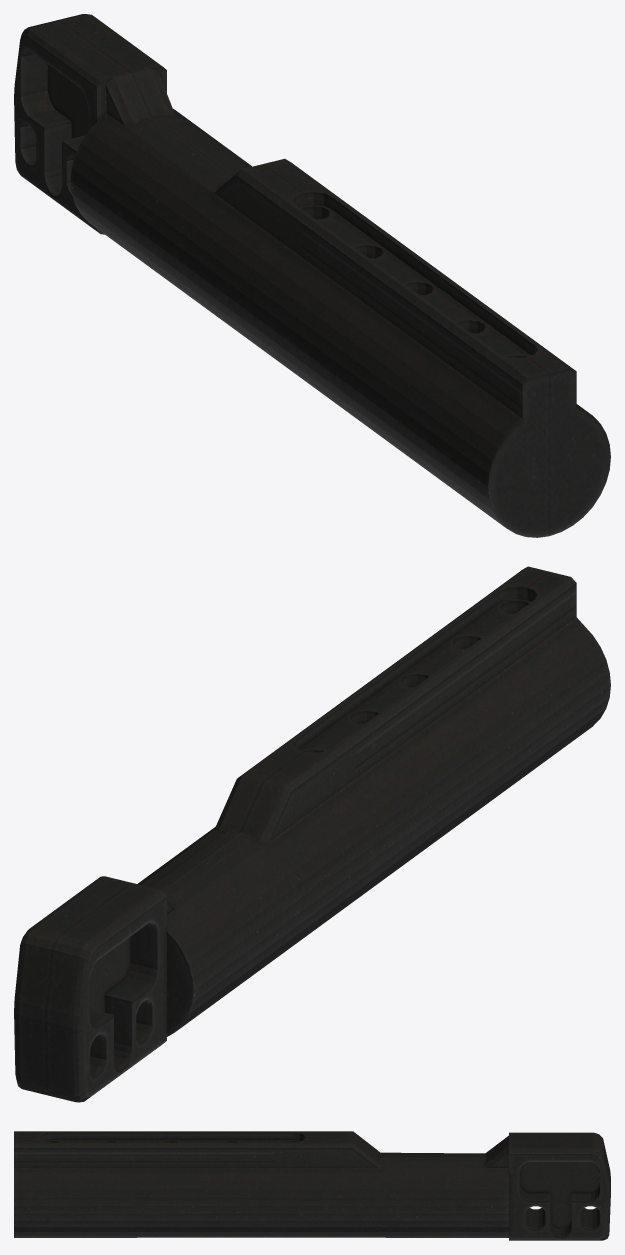
3 renders of one model, top to bottom at view 1: azimuth 30°, elevation 25°; view 2: azimuth 150°, elevation 25°; view 3: azimuth 270°, elevation 25°, orthographic. The views are drawn at different scales.
Parts seen in each view (by area): view 1: TW_5afd7e095acfc40017541f61_PZ_Import; view 2: TW_5afd7e095acfc40017541f61_PZ_Import; view 3: TW_5afd7e095acfc40017541f61_PZ_Import.
Boxes of the visible parts, bbox=[...] form: TW_5afd7e095acfc40017541f61_PZ_Import: bbox=[14, 14, 610, 537]; TW_5afd7e095acfc40017541f61_PZ_Import: bbox=[14, 566, 610, 1102]; TW_5afd7e095acfc40017541f61_PZ_Import: bbox=[14, 1131, 610, 1240].
Bounding box in the file's own units: 0.0167 × 0.1186 × 0.0212.
1 material, 1 textured.
